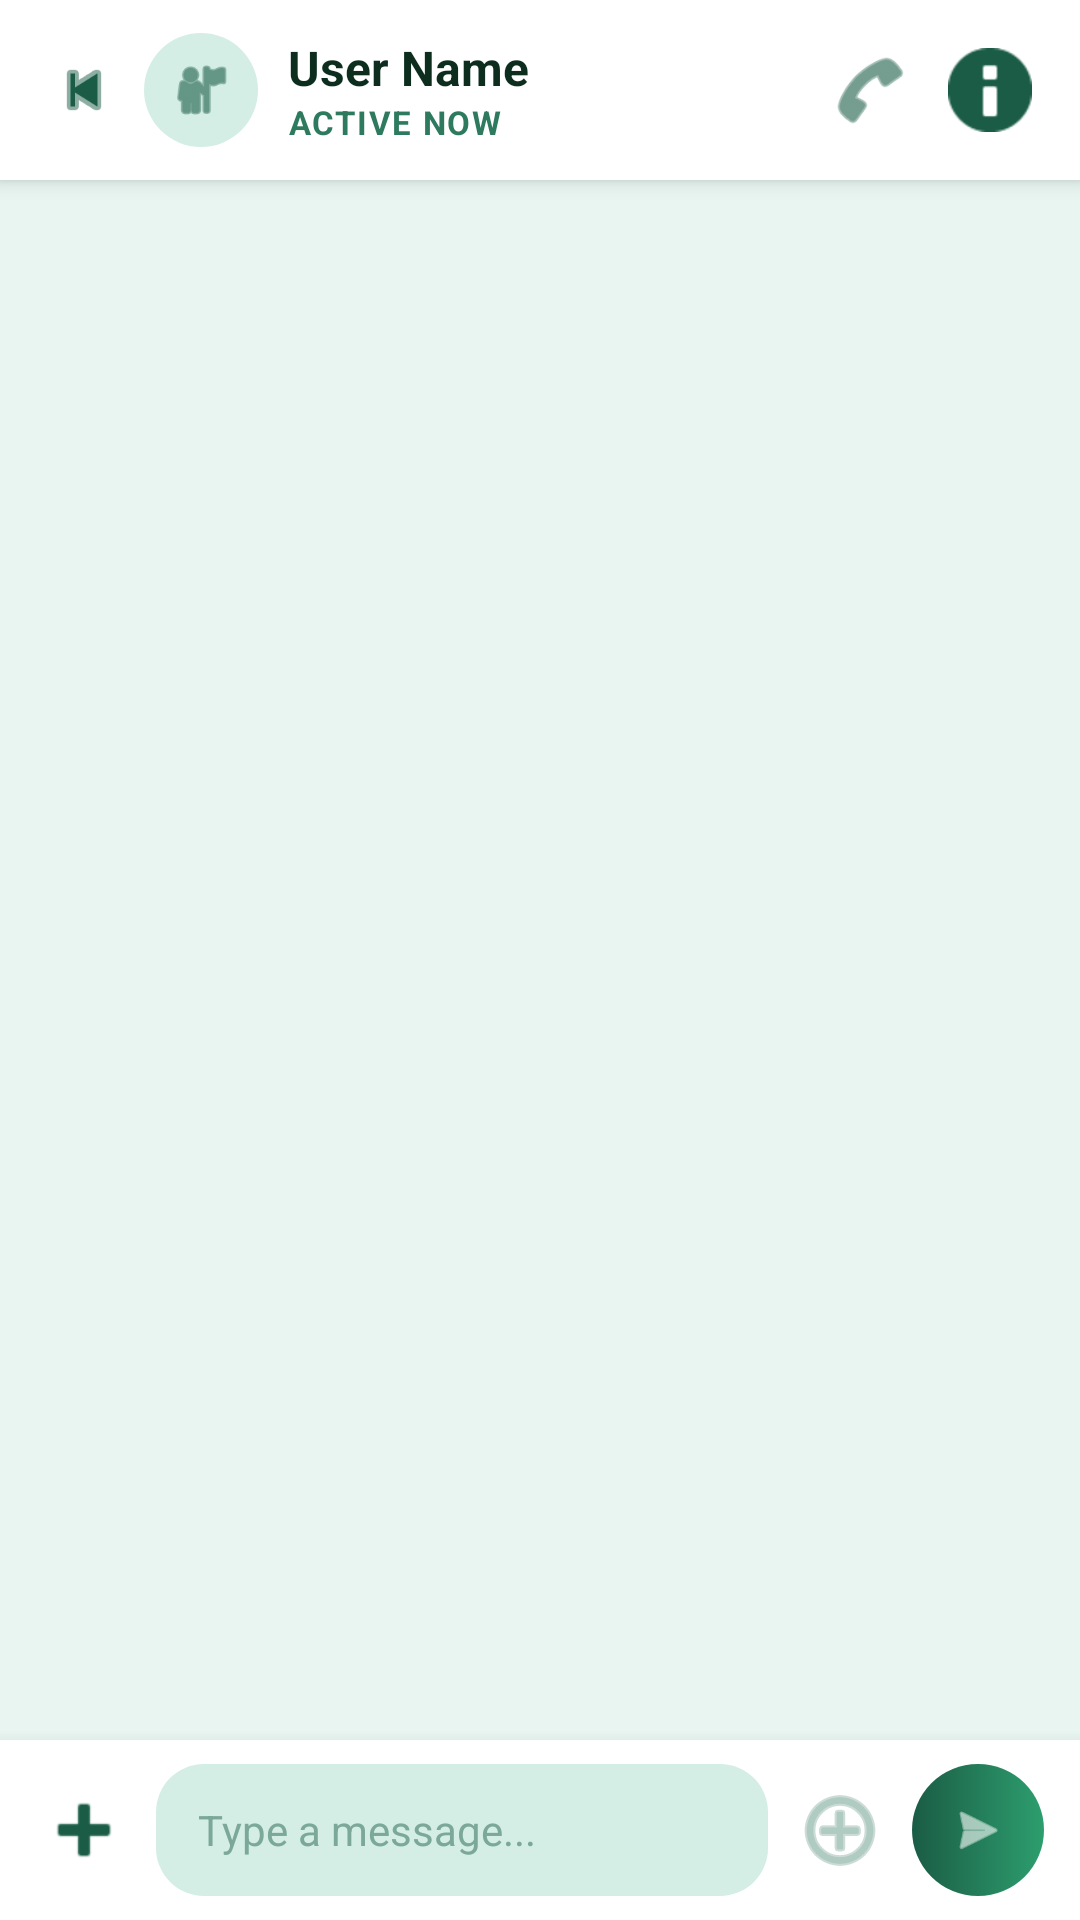

Locate icon controls on the screen. Image size 1080×1920, boxes as (x1, y1, x2, y2).
add: (805, 1795, 875, 1866), (57, 1803, 111, 1857)
call: (838, 58, 903, 123)
info: (948, 48, 1032, 132)
previous: (67, 70, 101, 110)
send: (948, 1800, 998, 1860)
